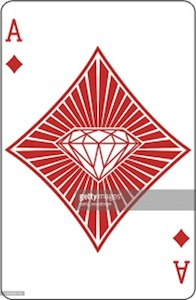AceOfDiamonds: (1, 1, 194, 298)
